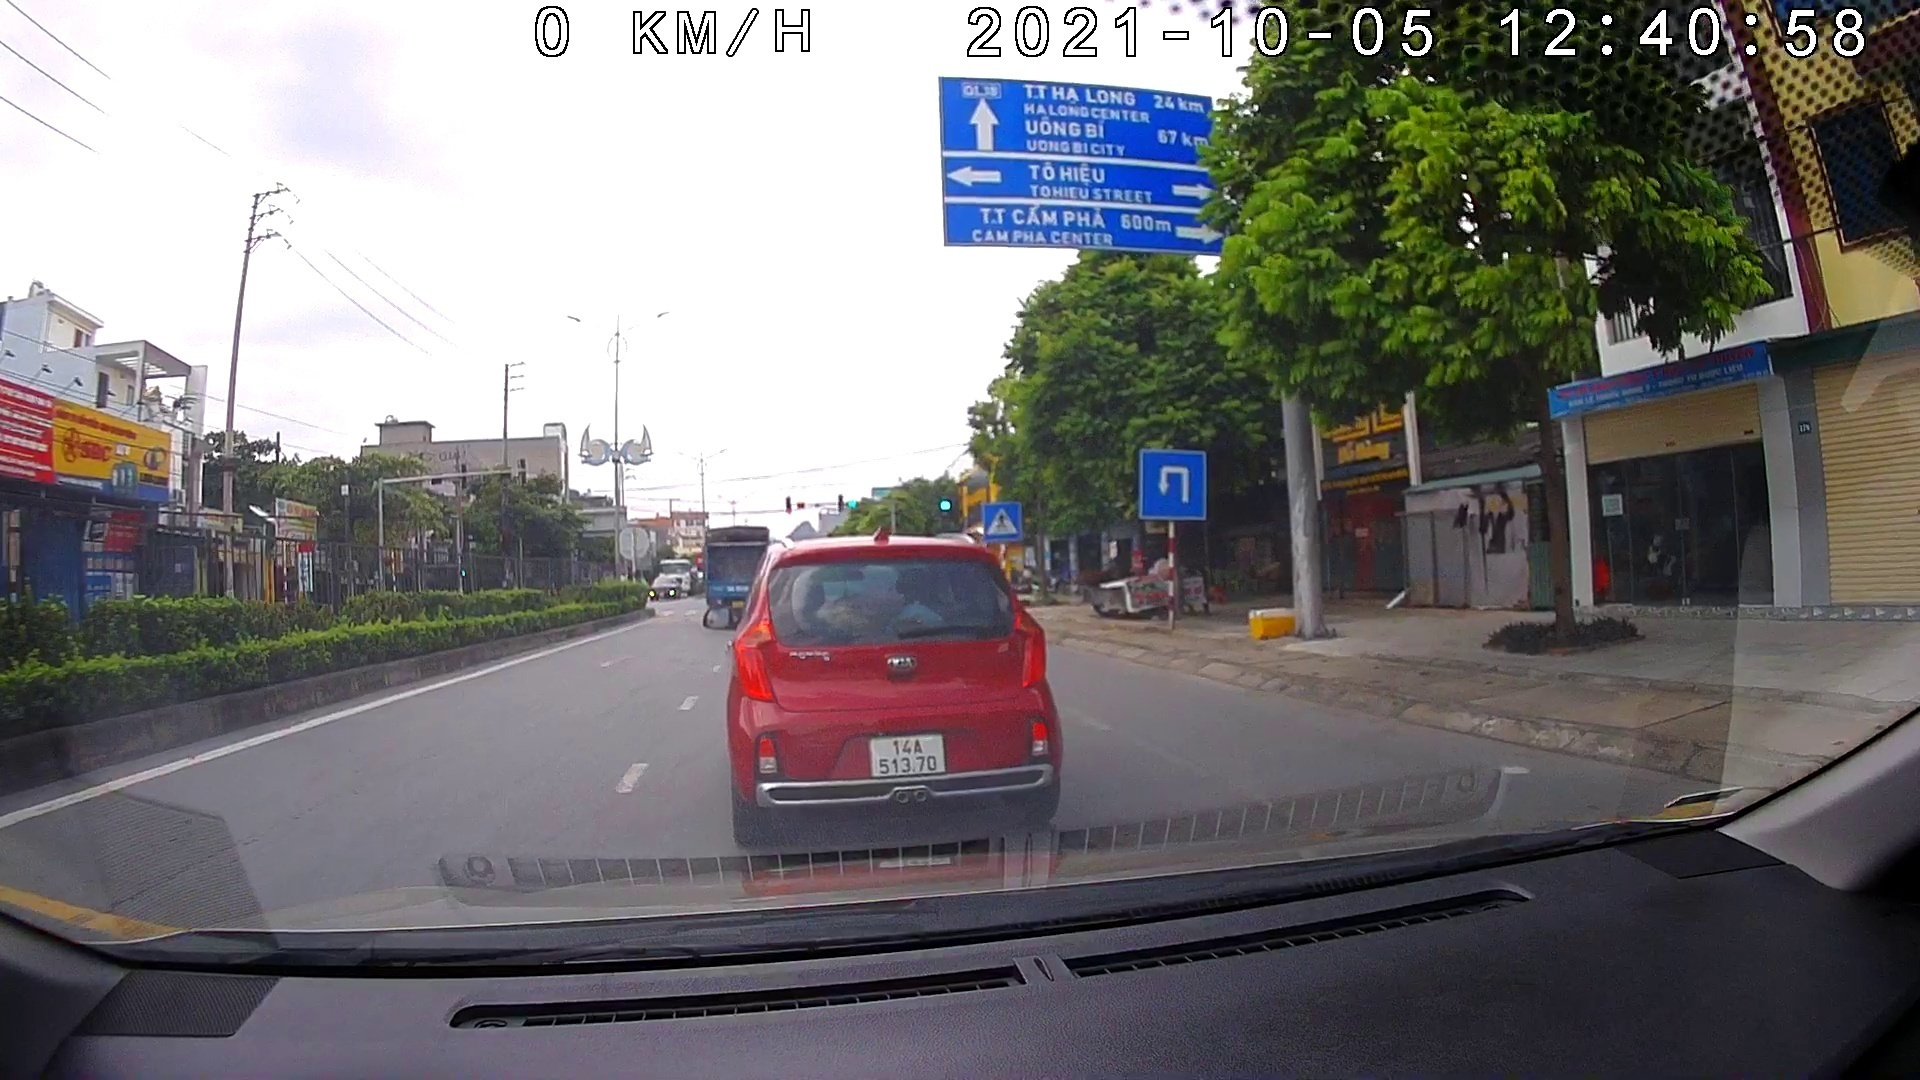Bien khac: (1135, 446, 1204, 524)
Nguoi di bo: (977, 500, 1021, 538)
